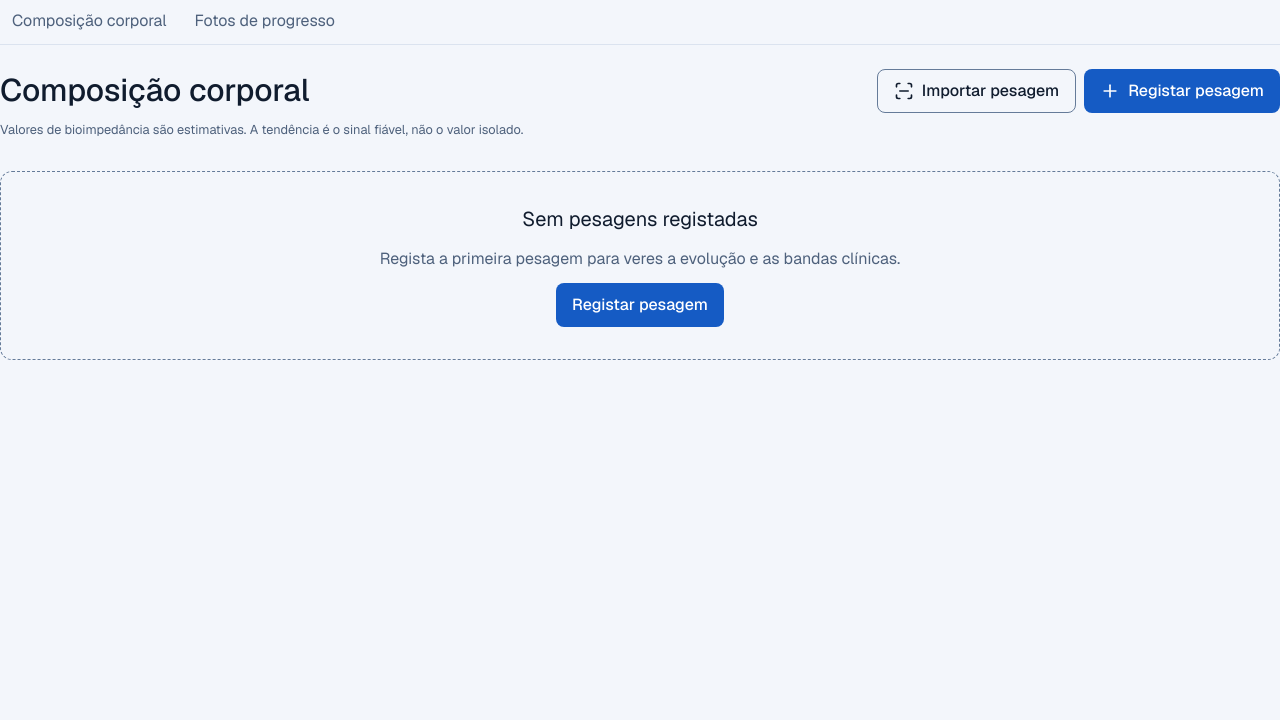
Scenario: Body › offers photo import when a model is configured
Step 1. Click the button "Importar pesagem" → click(976, 91), box [877,69,1076,113]
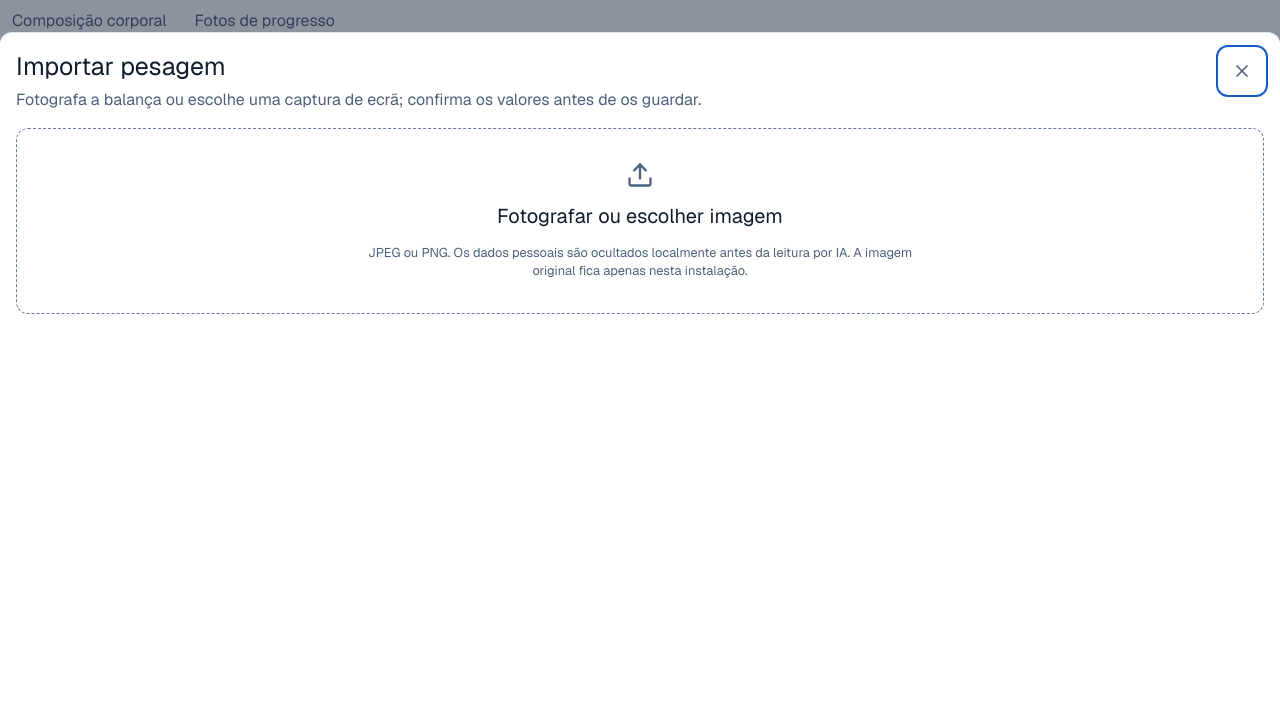
expect the heading "Importar pesagem" is shown: met, box [16,50,226,82]
expect the text "captura de ecrã" is shown: met, box [16,89,701,110]
